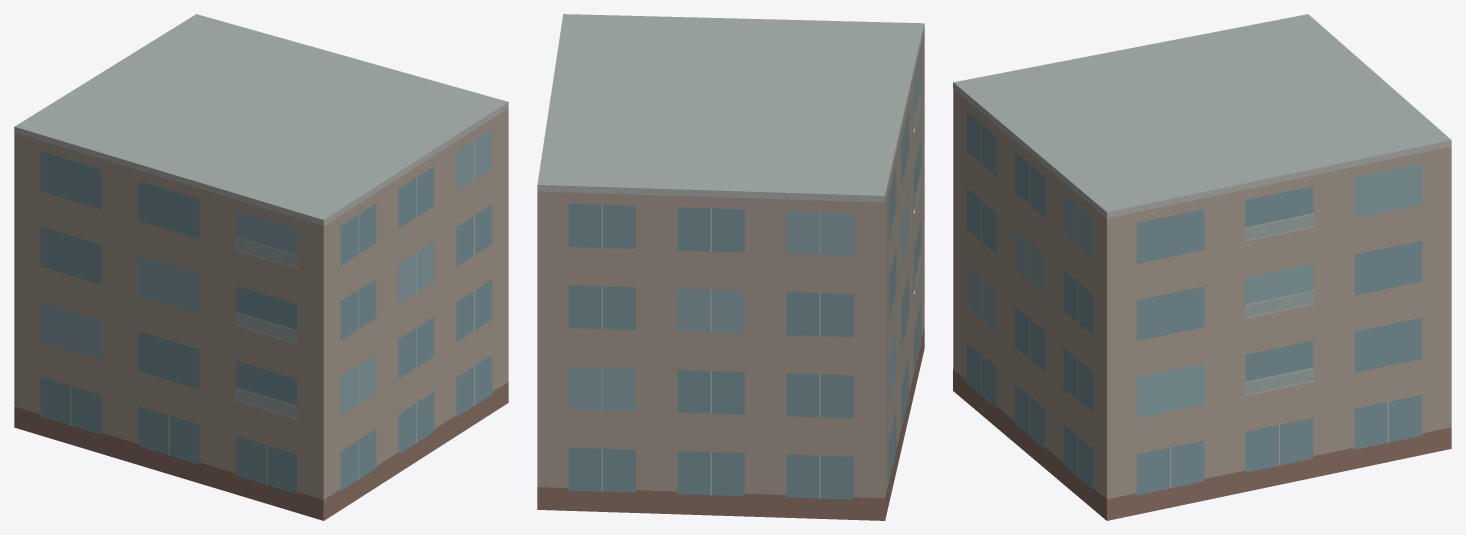
The model's file is survey-upis-32739644.glb.
3 renders of one model, left to right at view 1: azimuth 30°, elevation 25°; view 2: azimuth 150°, elevation 25°; view 3: azimuth 270°, elevation 25°, orthographic. The views are drawn at different scales.
Parts seen in each view (by area): view 1: survey-upis-32739644.tmp; view 2: survey-upis-32739644.tmp; view 3: survey-upis-32739644.tmp.
Part boxes in pixels (left/top/right/bottom): survey-upis-32739644.tmp: left=14, top=14, right=508, bottom=520; survey-upis-32739644.tmp: left=537, top=14, right=924, bottom=520; survey-upis-32739644.tmp: left=953, top=14, right=1451, bottom=520.
Size of the model in its own units: 16.54 by 12 by 17.58.
